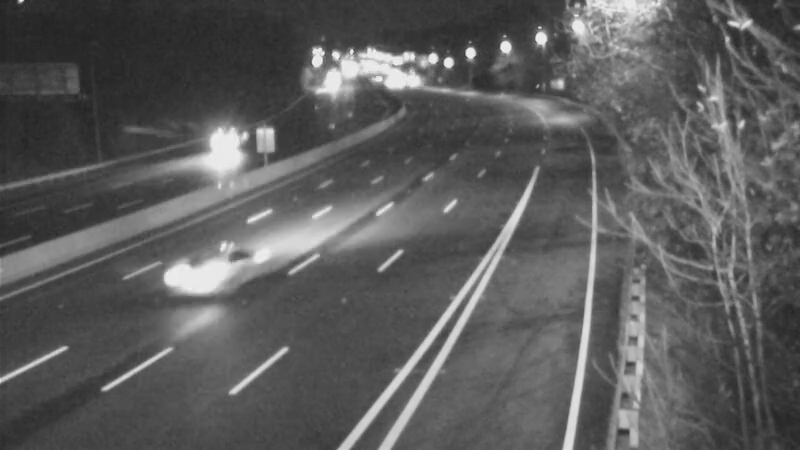vehicle: (159, 244, 239, 324), (201, 115, 251, 165)
